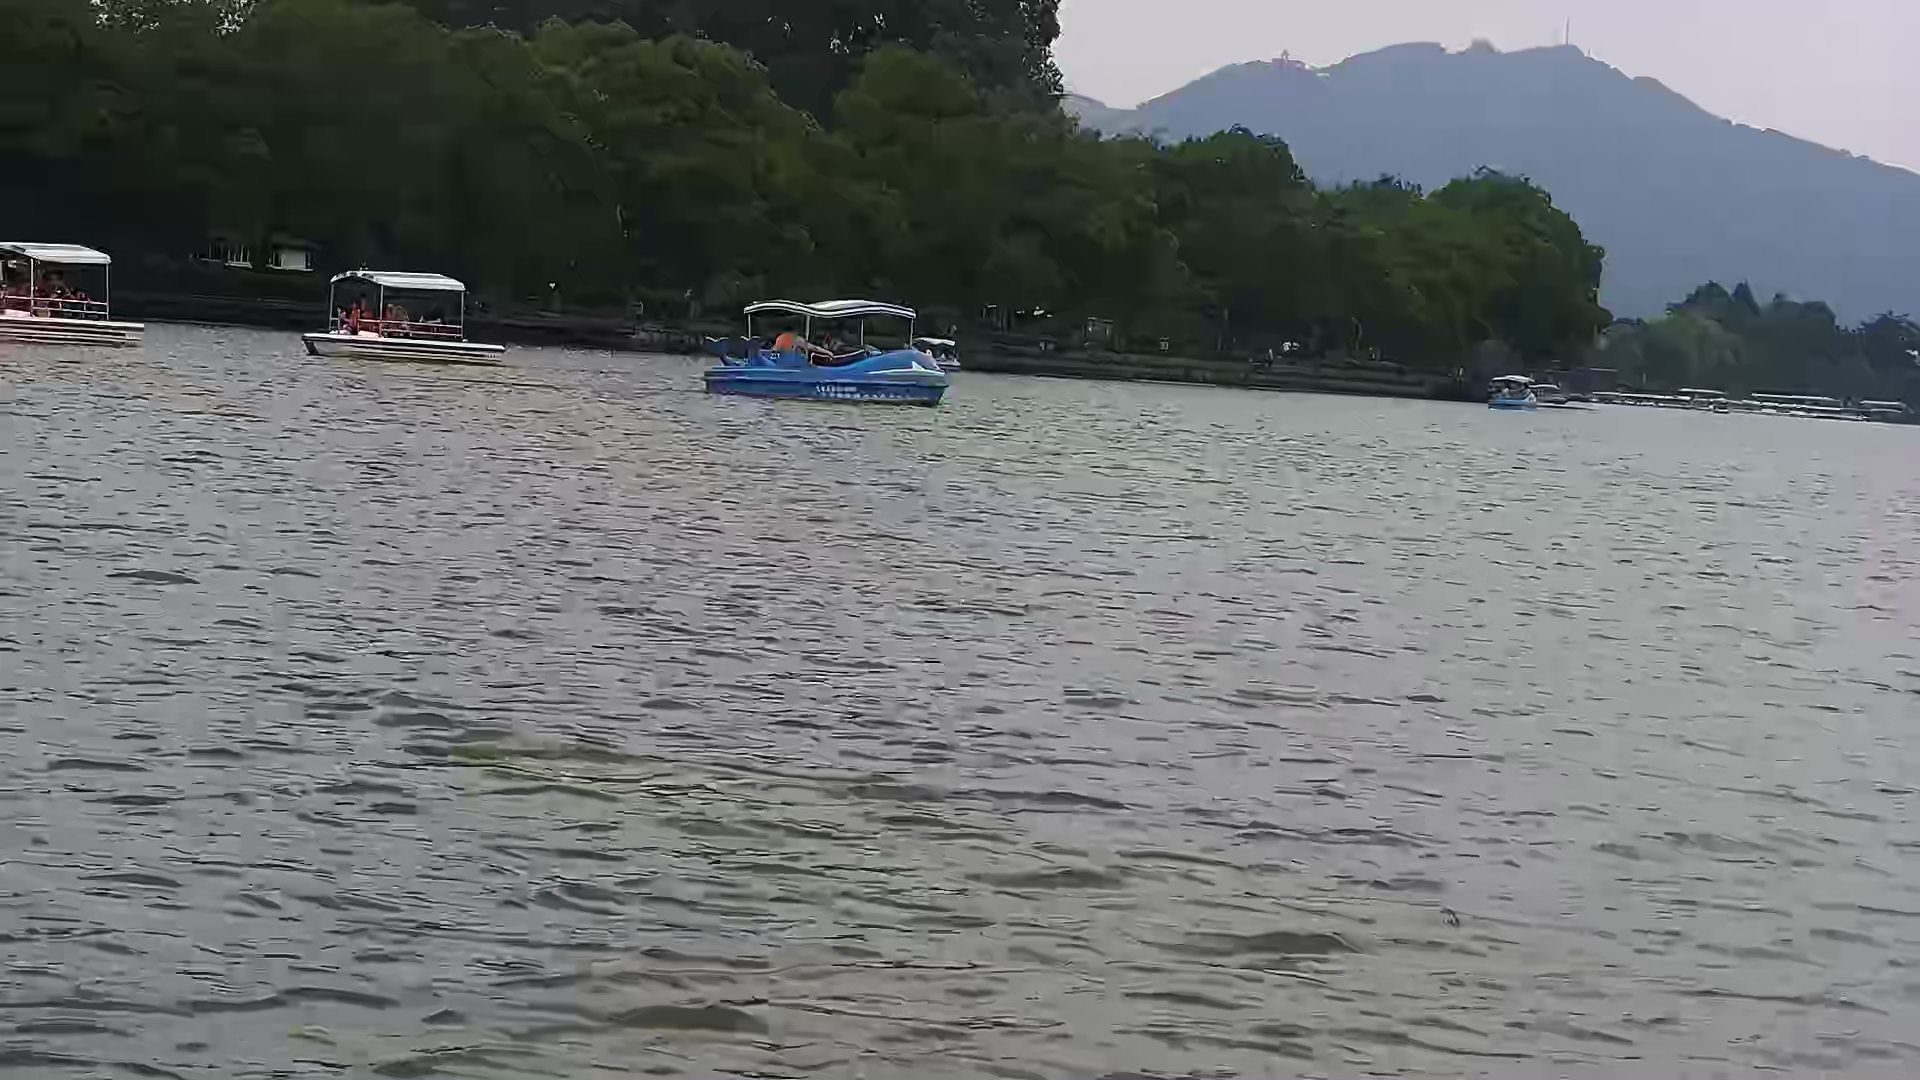boat: (707, 287, 947, 401), (297, 261, 506, 367), (3, 236, 152, 349), (1489, 367, 1544, 407)
